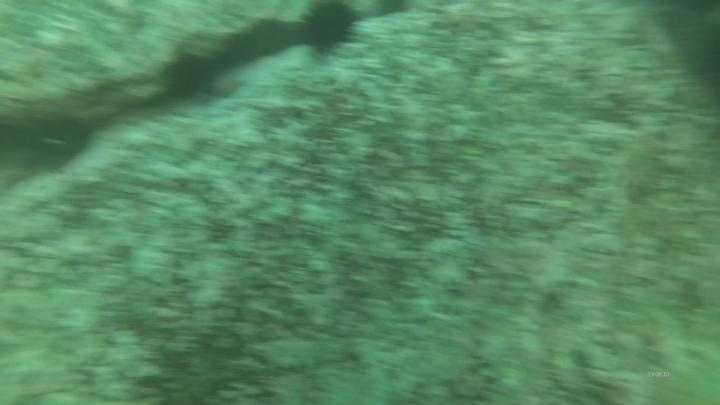echinus: (295, 0, 364, 58), (160, 50, 218, 105)
starfish: (204, 69, 248, 105)
